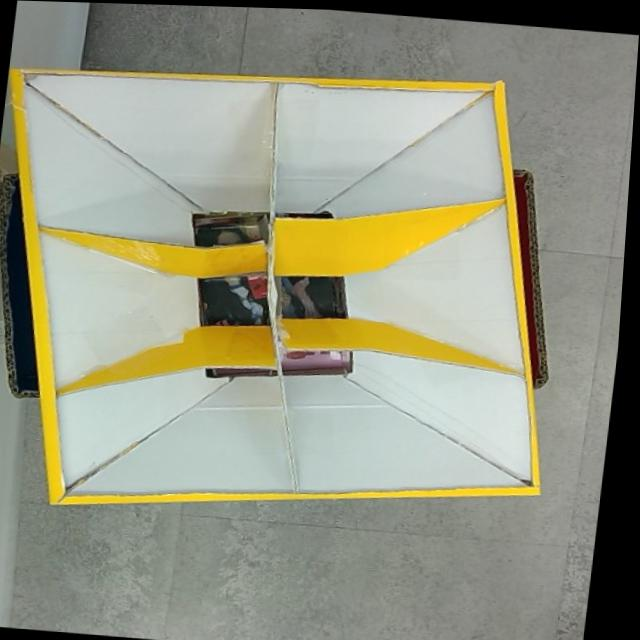box: (0, 40, 592, 542)
